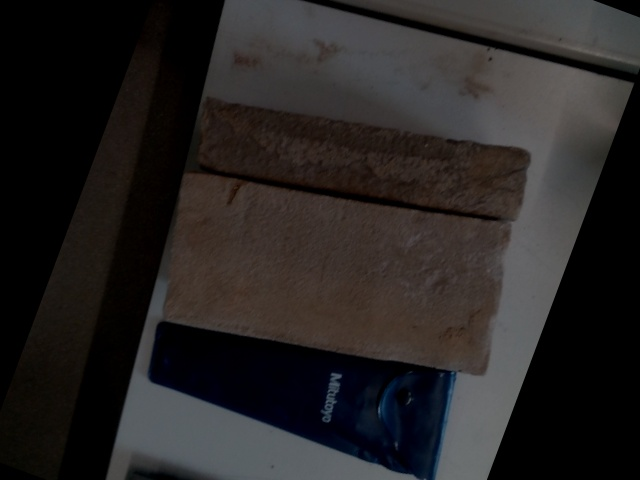brick: (167, 175, 506, 372)
